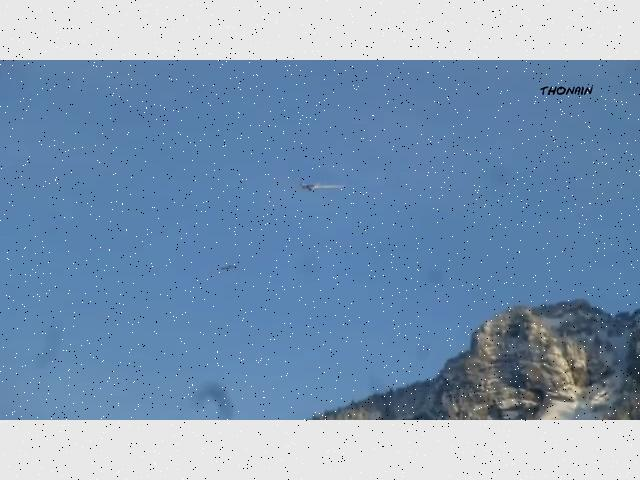Anti-Drone: (293, 175, 351, 197)
